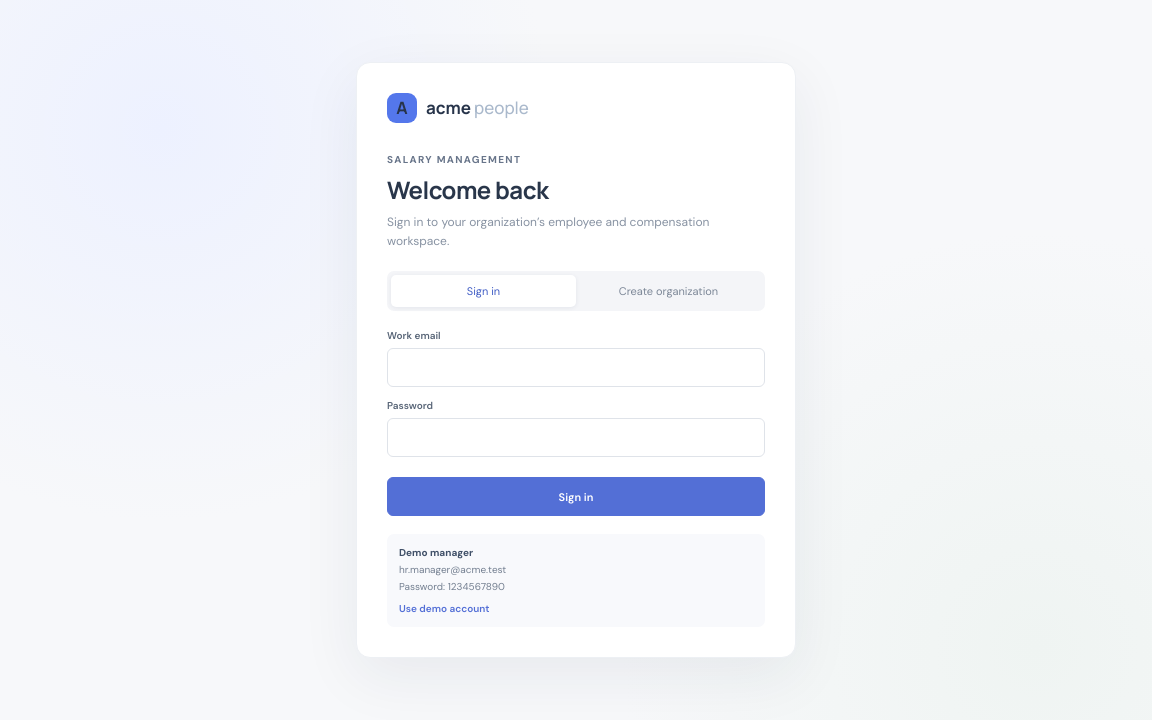
Test: salary management workspace › signs in a manager and opens their organization workspace
Step 1. Type "manager@example.test" into the field labelled "Work email" → (576, 368), box 387,348 -> 765,387
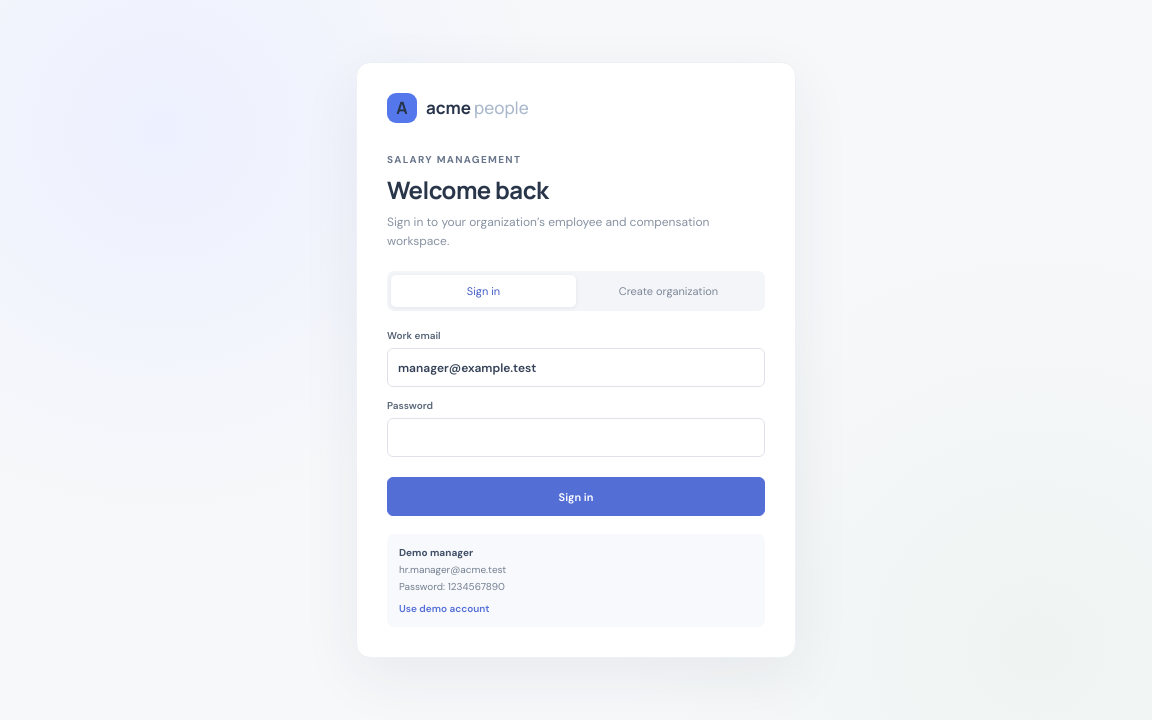
Step 2. Type "testing-password" into the password field labelled "Password" → (576, 438), box 387,418 -> 765,457
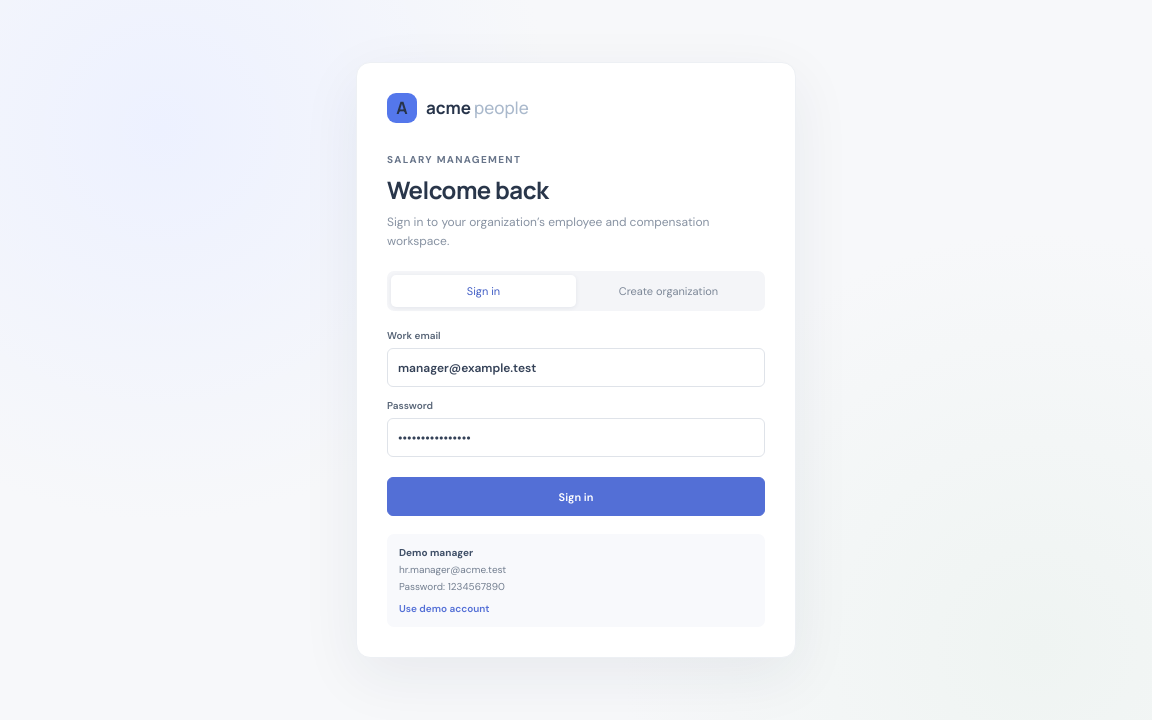
Step 3. Click the button "Sign in" below "Work email" → (576, 497), box 387,477 -> 765,516
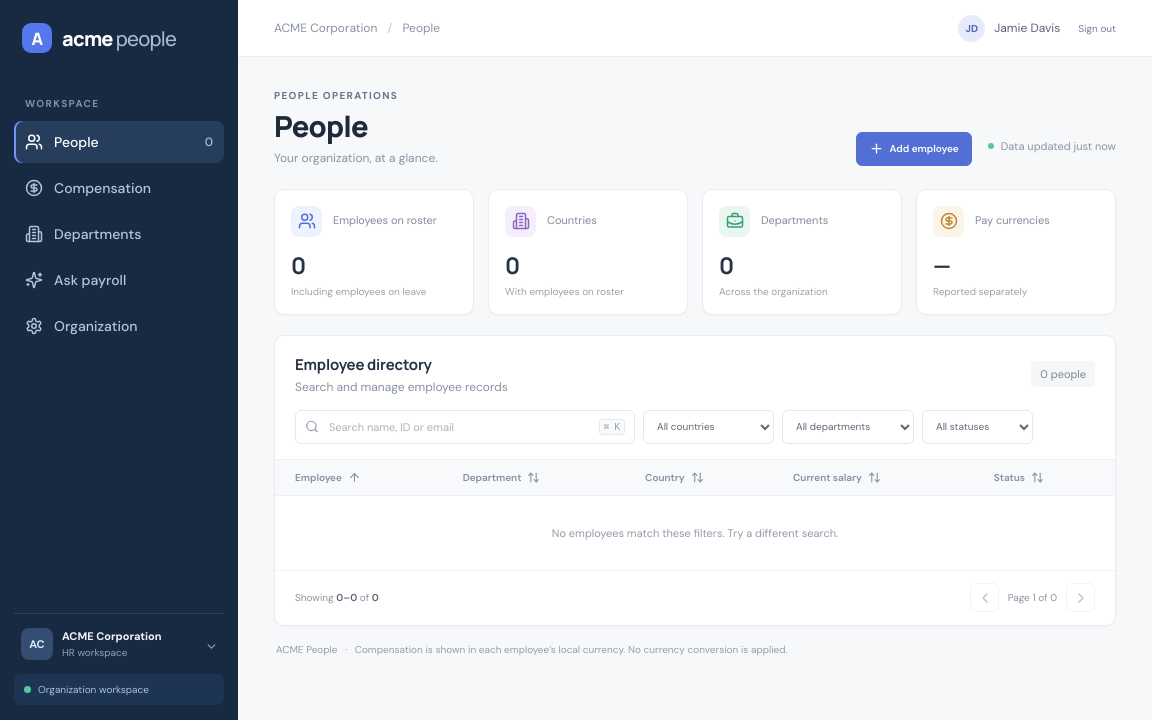
Expected: the heading "Employee directory" is shown, 295,354 -> 432,375
Expected: the text "ACME Corporation" is shown, 62,629 -> 162,643
